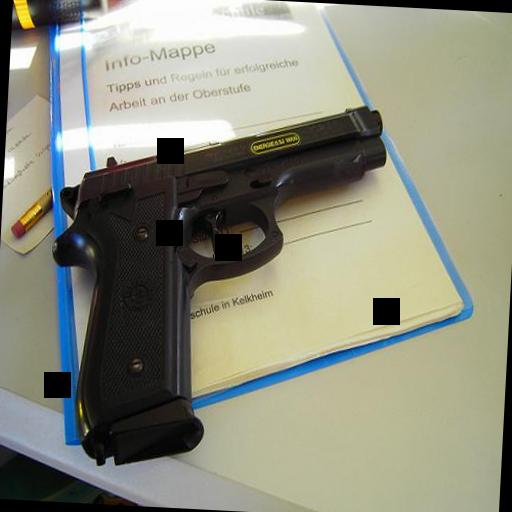Handgun: (39, 84, 388, 480)
